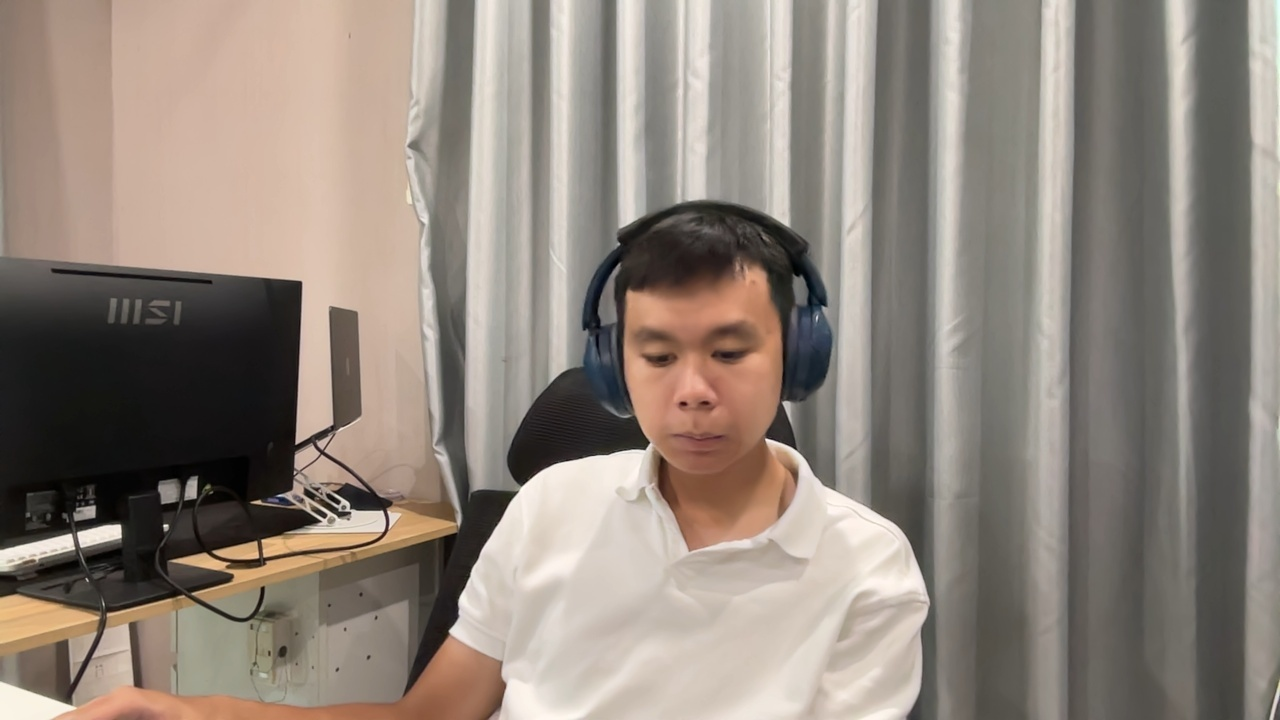over_ear: (579, 200, 834, 424), (579, 200, 835, 419)
